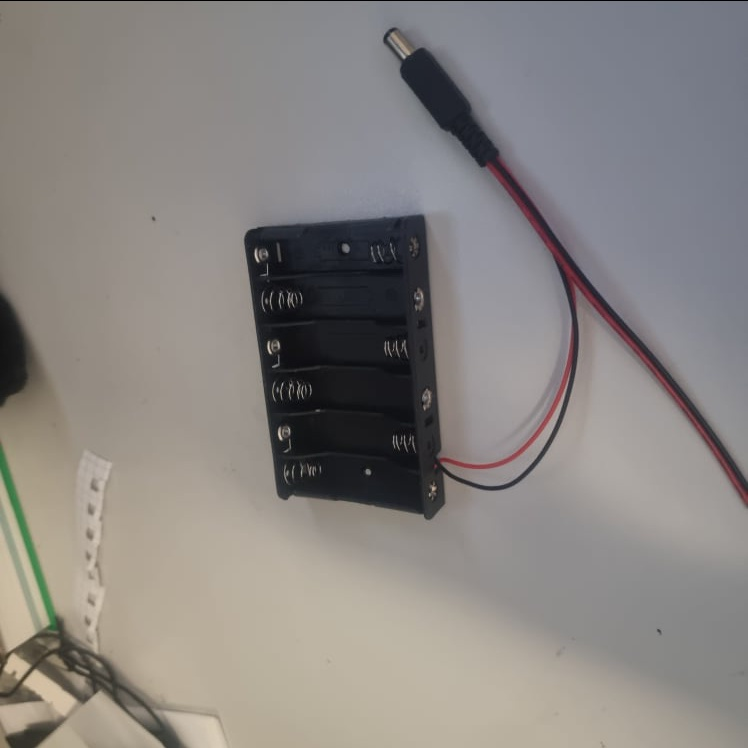BATTERY BOX: (243, 210, 448, 521)
